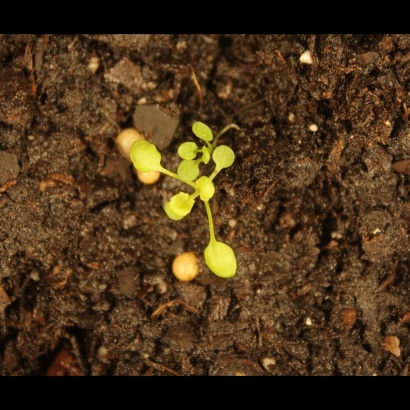leaf: (200, 236, 245, 280), (128, 135, 164, 180), (166, 191, 198, 220), (213, 140, 239, 174), (192, 173, 220, 203), (175, 159, 202, 188), (161, 201, 189, 228), (173, 140, 200, 164), (196, 142, 219, 170), (190, 119, 215, 144)
